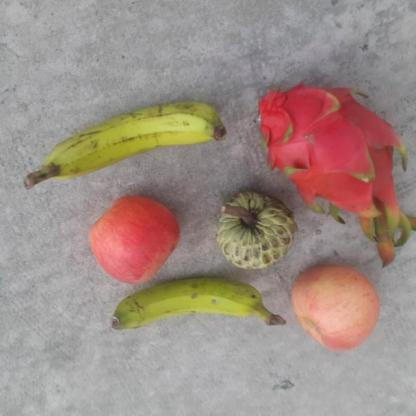annona: (216, 190, 296, 270)
apple: (89, 194, 180, 286), (290, 264, 382, 352)
banana: (24, 98, 234, 189), (110, 278, 288, 331)
pitaya: (258, 79, 416, 268)
